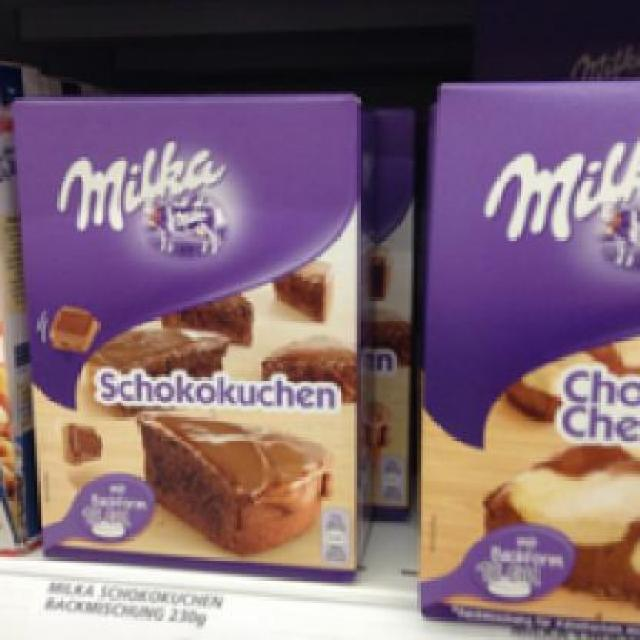Cake: (8, 89, 364, 566), (412, 68, 638, 634)
